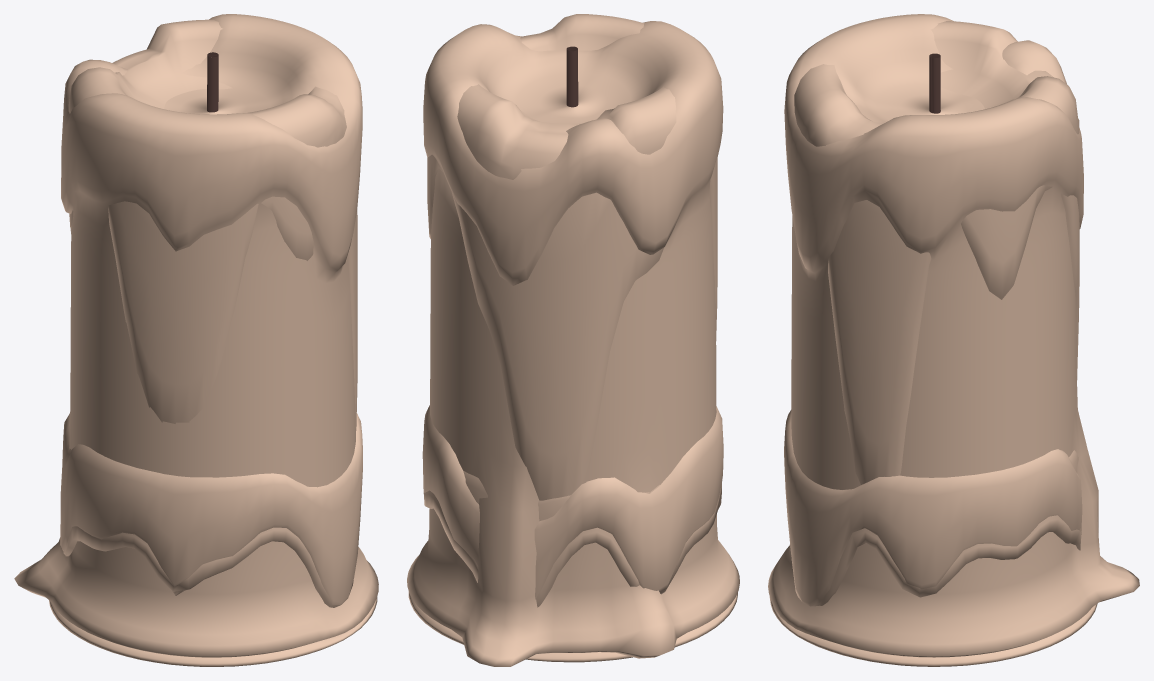
The model's file is candles.fbx.
3 views of the same model, side by side, from view 1: azimuth 30°, elevation 25°; view 2: azimuth 150°, elevation 25°; view 3: azimuth 270°, elevation 25° (orthographic).
Parts seen in each view (by area): view 1: Candle 3.002, candle, Candle 3, Candle 2; view 2: Candle 3.002, candle, Candle 3, Candle 2; view 3: Candle 3.002, candle, Candle 3, Candle 2.
Boxes of the visible parts, <box> form: Candle 3.002: <box>14,14,378,657</box>; candle: <box>68,19,357,430</box>; Candle 3: <box>49,413,377,666</box>; Candle 2: <box>63,447,353,607</box>; Candle 3.002: <box>407,21,739,666</box>; candle: <box>427,14,717,500</box>; Candle 3: <box>408,405,737,662</box>; Candle 2: <box>423,471,721,607</box>; Candle 3.002: <box>768,14,1139,657</box>; candle: <box>794,21,1079,484</box>; Candle 3: <box>769,410,1097,666</box>; Candle 2: <box>791,450,1081,606</box>.
Size of the model in its own units: 419 by 747 by 464.
